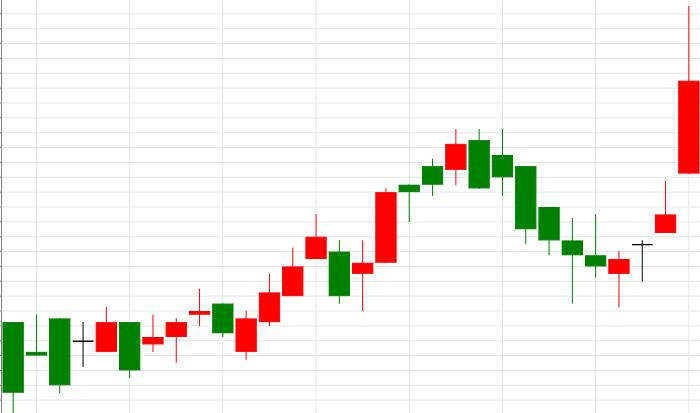bearish_engulfing_fall: (351, 127, 491, 311)
three_white_soldiers_rise: (190, 246, 303, 360)
